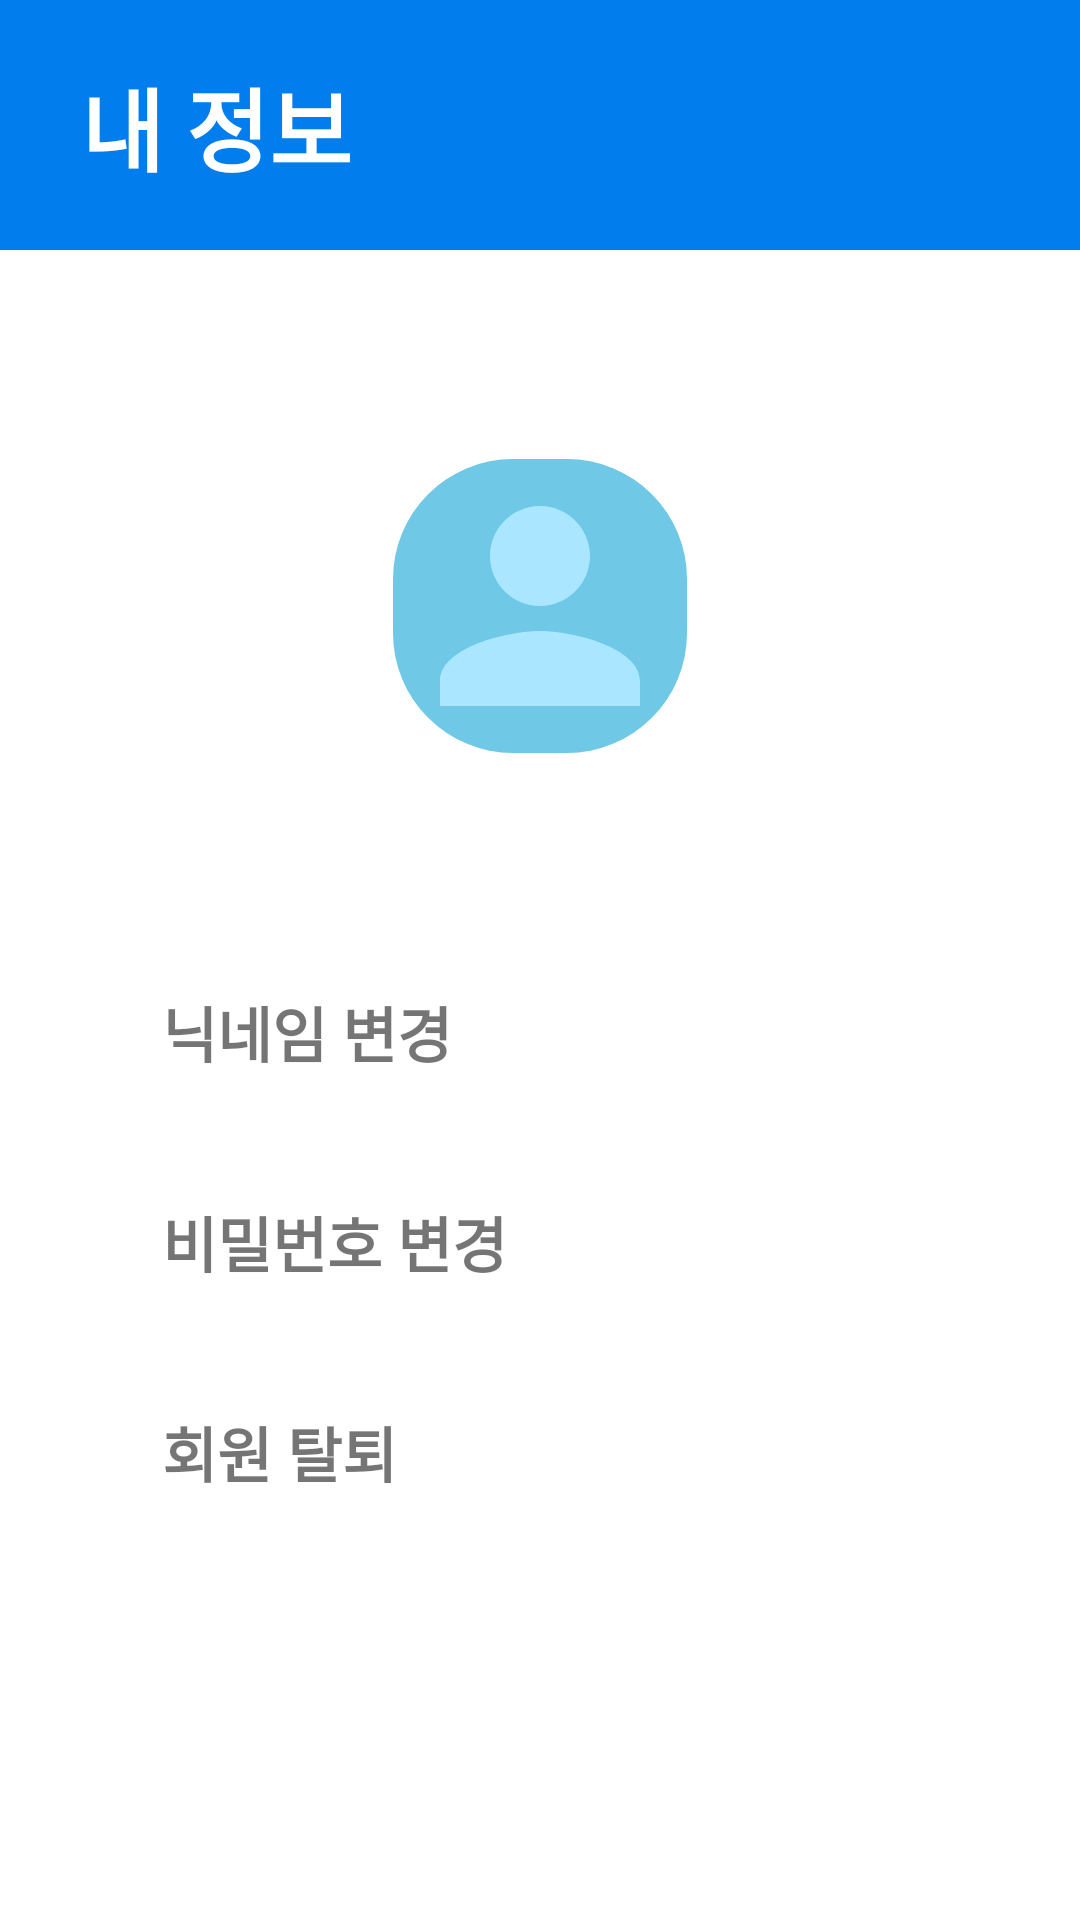

Point at icon controls on the screen. Image size 1080x1920, points as (x=x, y=y).
person: (x=540, y=606)
